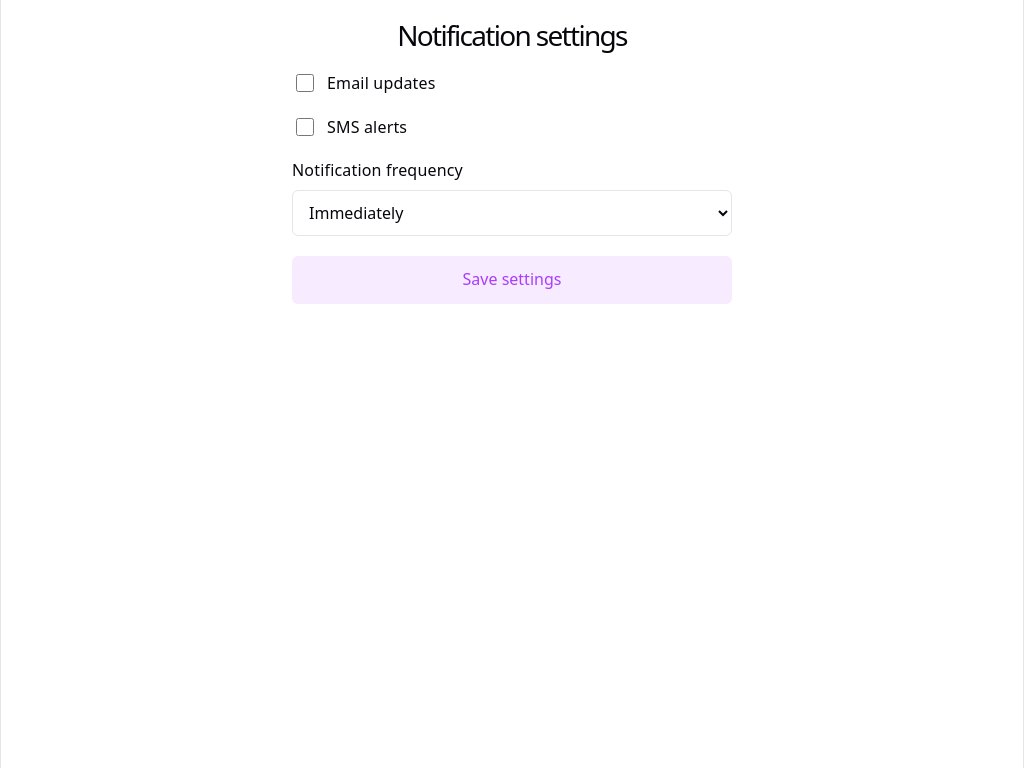
Test: NotificationSettings › shows the phone field when SMS alerts are enabled
Click the checkbox labelled "SMS alerts" at (305, 127), box x1=296 y1=118 x2=314 y2=136
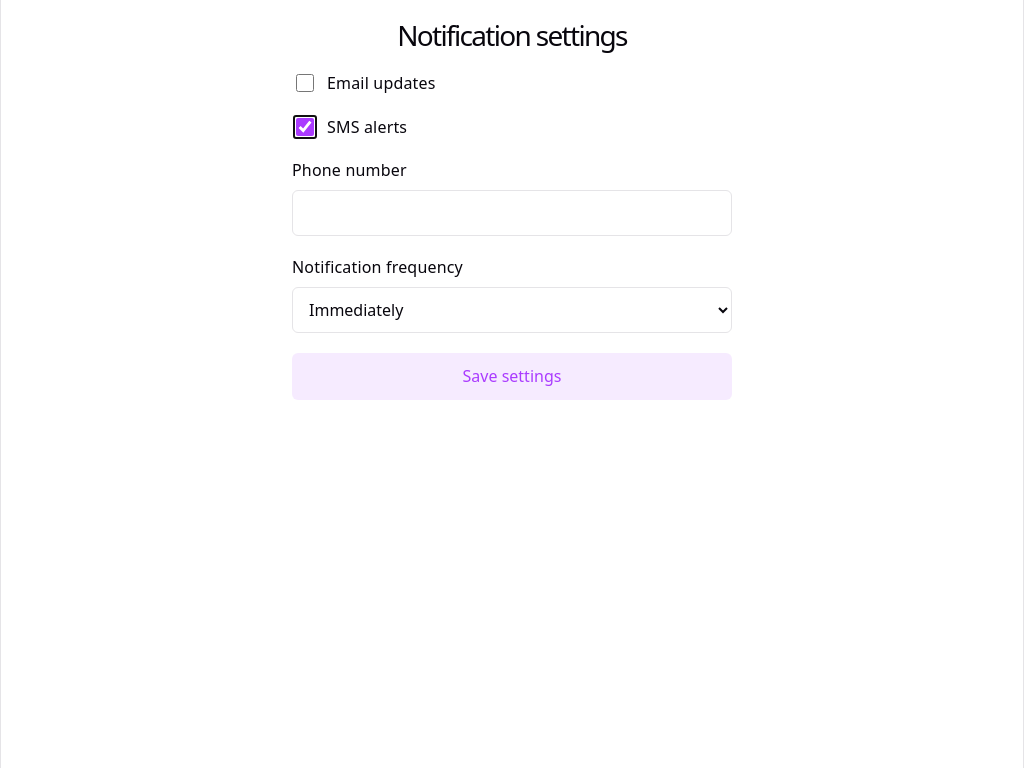
Expected: the field labelled "Phone number" is shown, x1=292 y1=190 x2=732 y2=236
